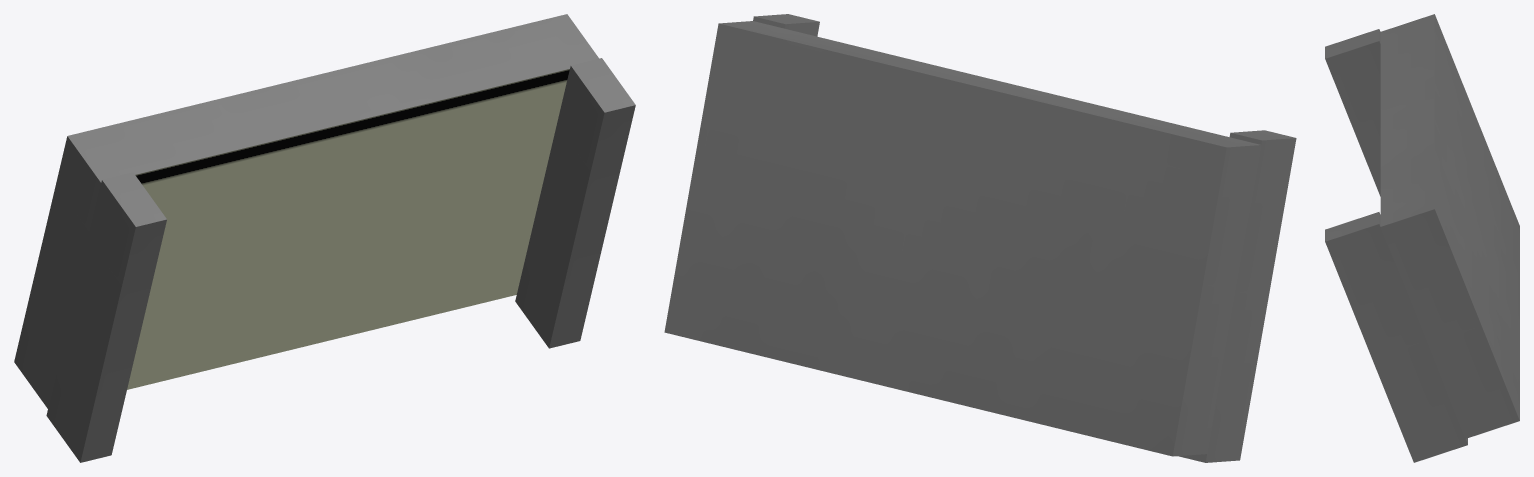
File: dc_metro_arch_c6.obj
3 renders of one model, left to right at view 1: azimuth 30°, elevation 25°; view 2: azimuth 150°, elevation 25°; view 3: azimuth 270°, elevation 25°, orthographic. The views are drawn at different scales.
Parts seen in each view (by area): view 1: part6; view 2: part6; view 3: part6.
Part boxes in pixels (x1=…): part6: x1=14, y1=14, x2=635, y2=462; part6: x1=664, y1=14, x2=1296, y2=462; part6: x1=1325, y1=14, x2=1519, y2=462.
Size of the model in its own units: 2 by 1.21 by 0.8439.
2 materials, 2 textured.
